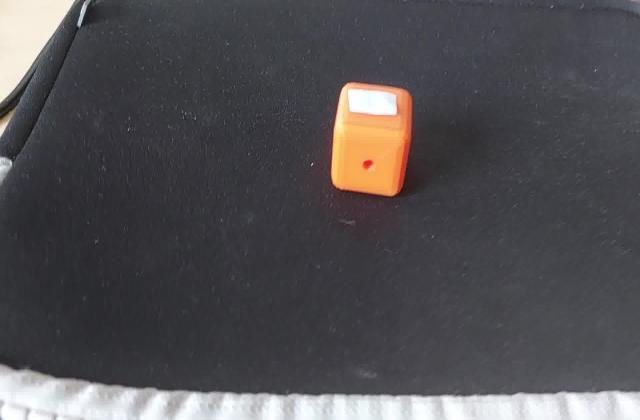cube: (330, 79, 418, 202)
white: (348, 88, 404, 120)
